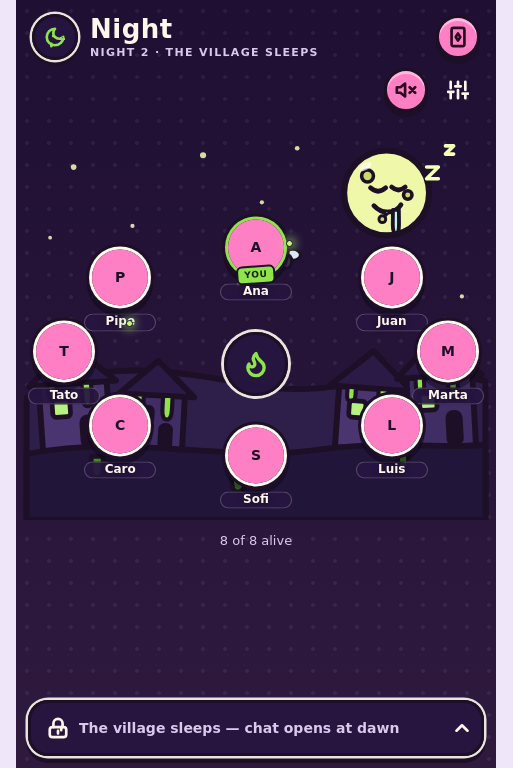
Test case: GameView › resumes the stored seat after a reload, then syncs the match and keeps the same role
Expected: the text "Night 2 · The village sleeps" is shown, [90, 46, 319, 58]
Press the mouse on the button named "Hold to peek at your role" at (458, 37), box [436, 15, 480, 59]
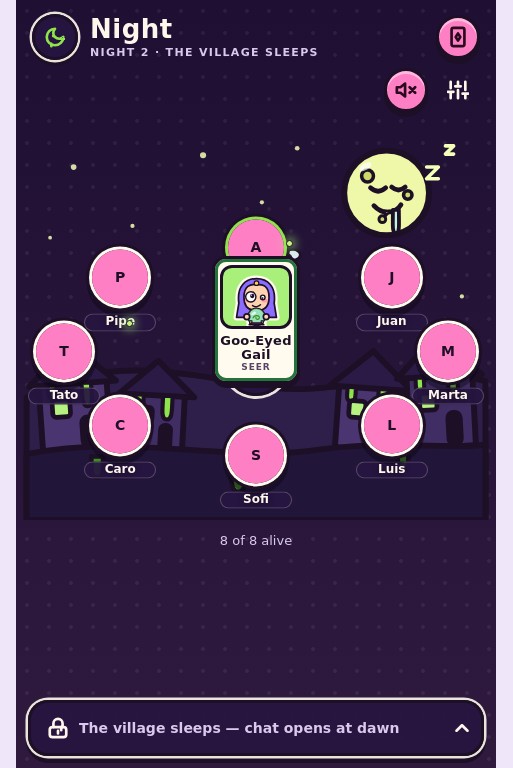
Now the text "Seer" is shown, box [241, 362, 271, 372]
